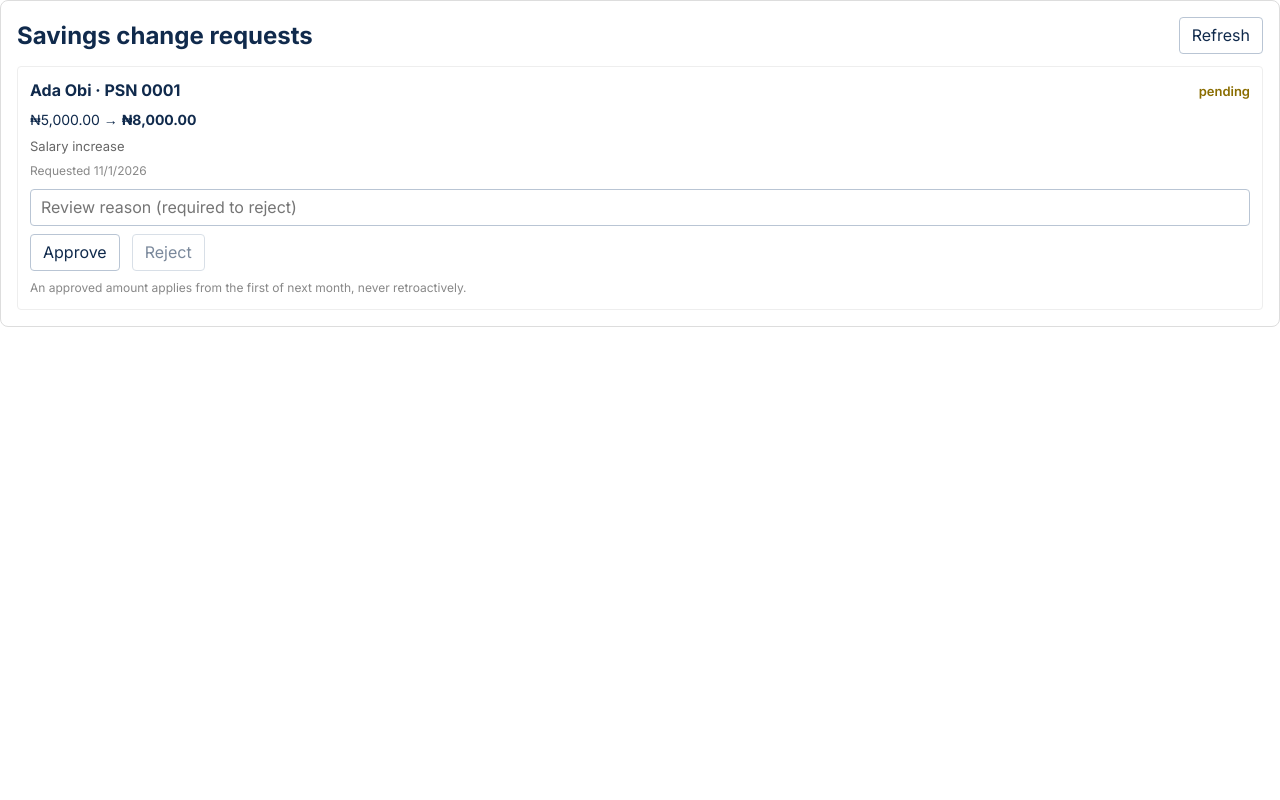
Test: ContributionReviewPanel › asks before approving and sends the decision only on confirm
Click the button "Approve" at (75, 253), box x1=30 y1=234 x2=120 y2=271
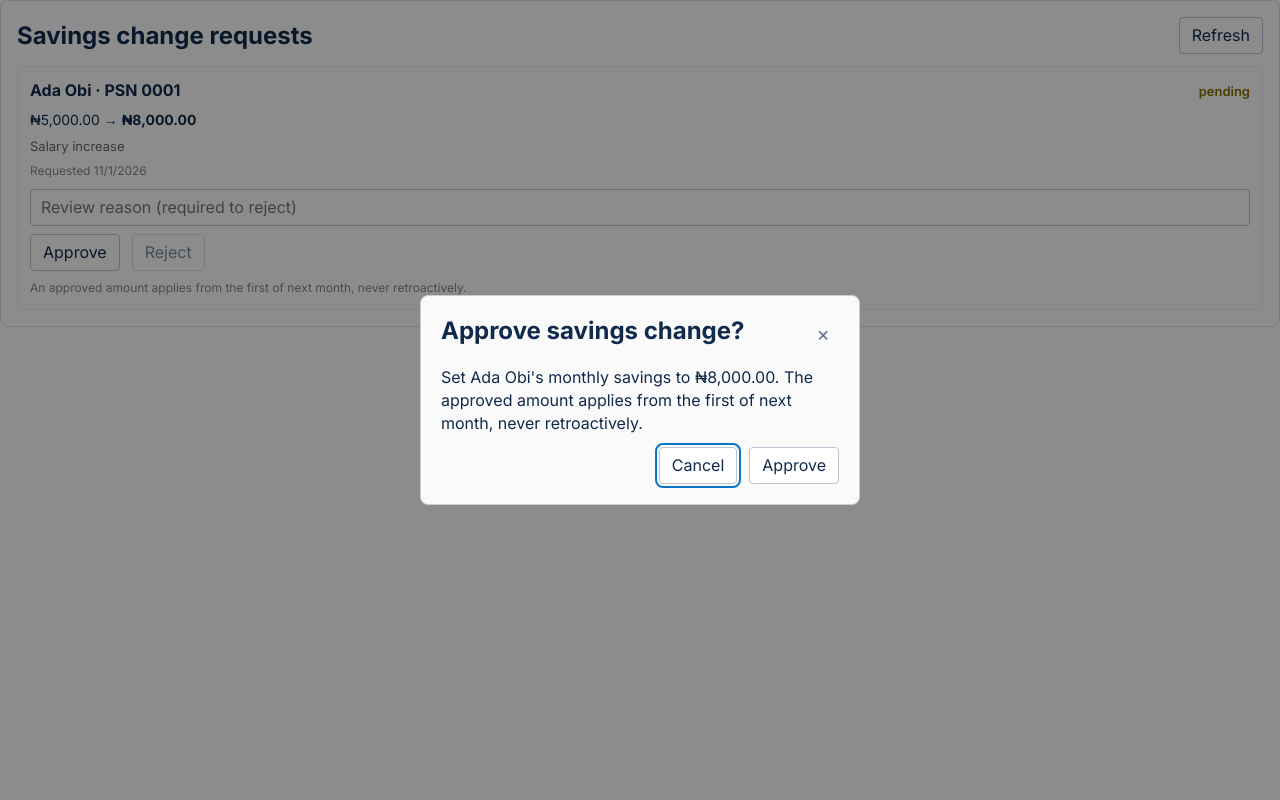
Expected: the dialog "Approve savings change?" shows "₦8,000.00", x1=441 y1=367 x2=813 y2=433
Click the button "Approve" at (794, 466), box x1=749 y1=447 x2=839 y2=484
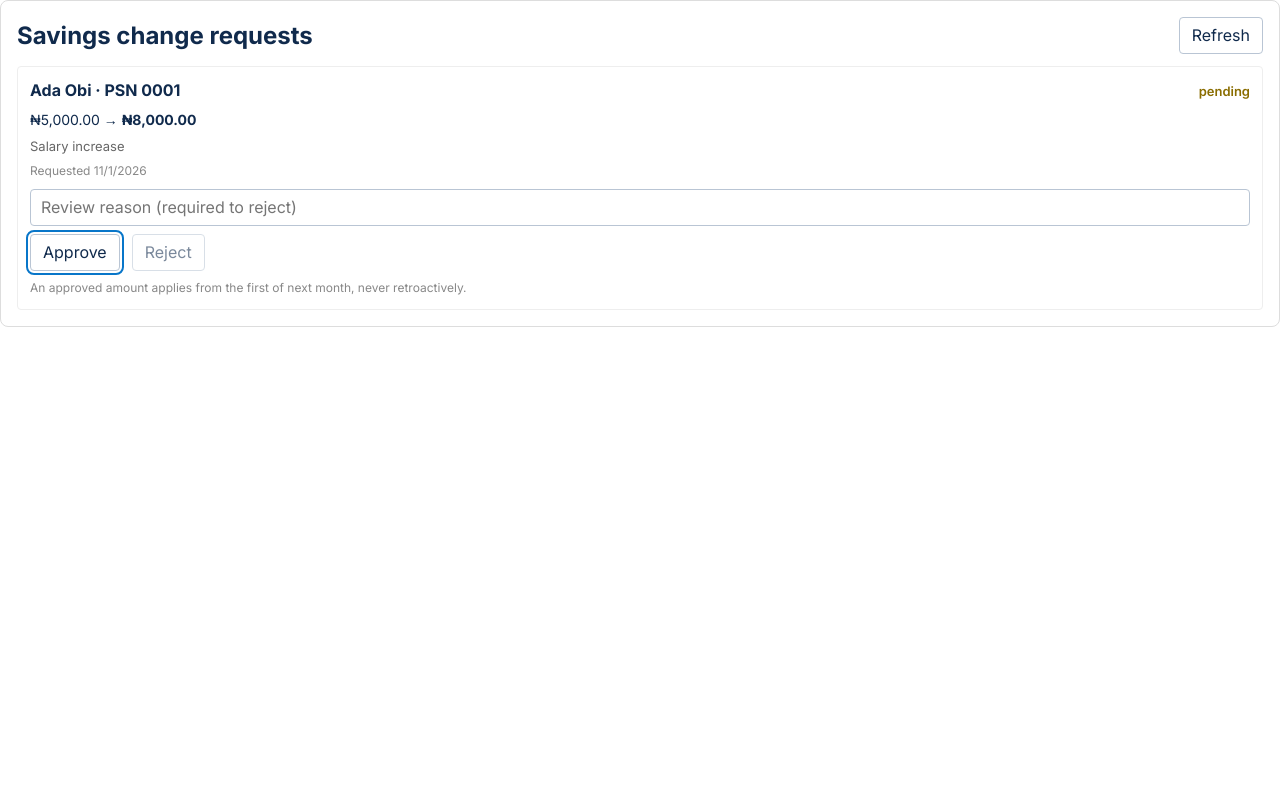
Expected: the dialog is gone
